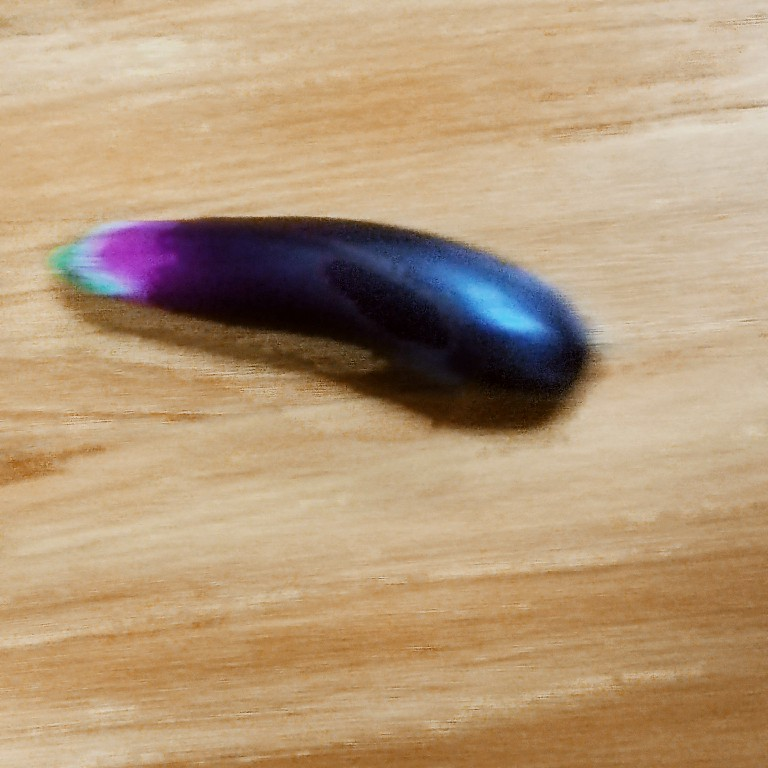fruit_eggplant: (43, 209, 599, 425)
